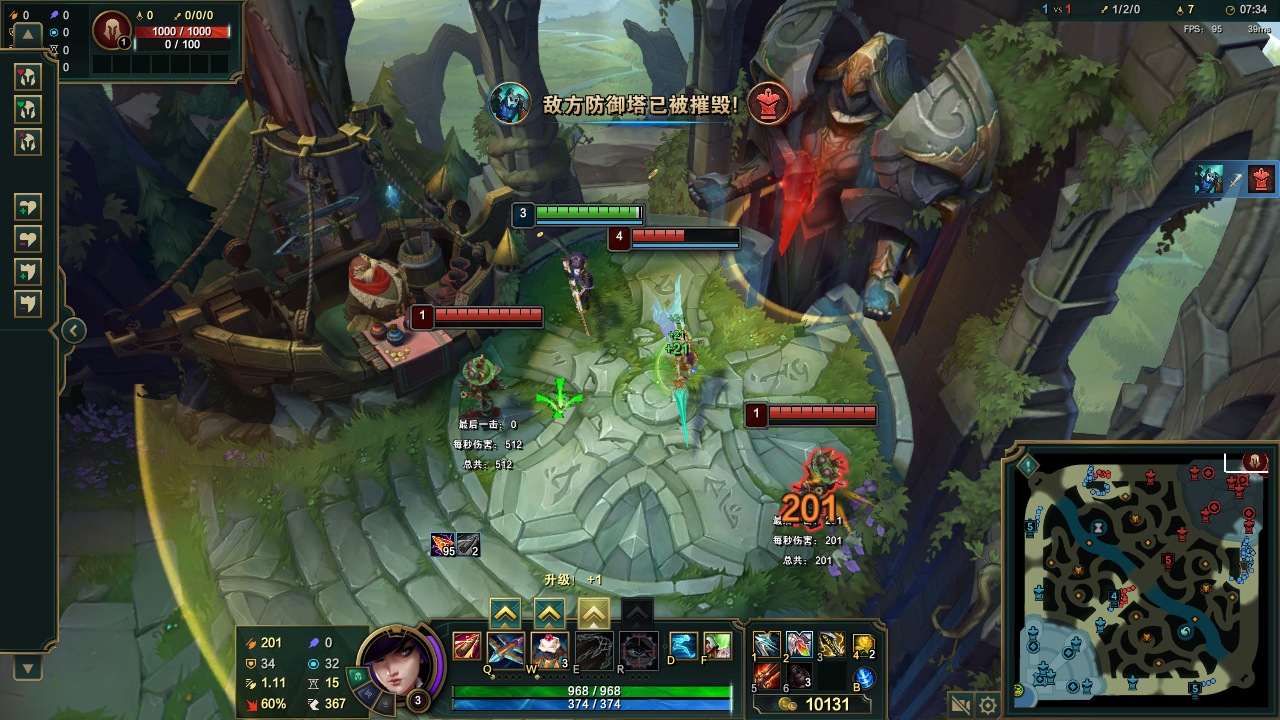DFYX: (635, 231, 742, 243), (767, 409, 881, 420), (435, 310, 542, 318)
